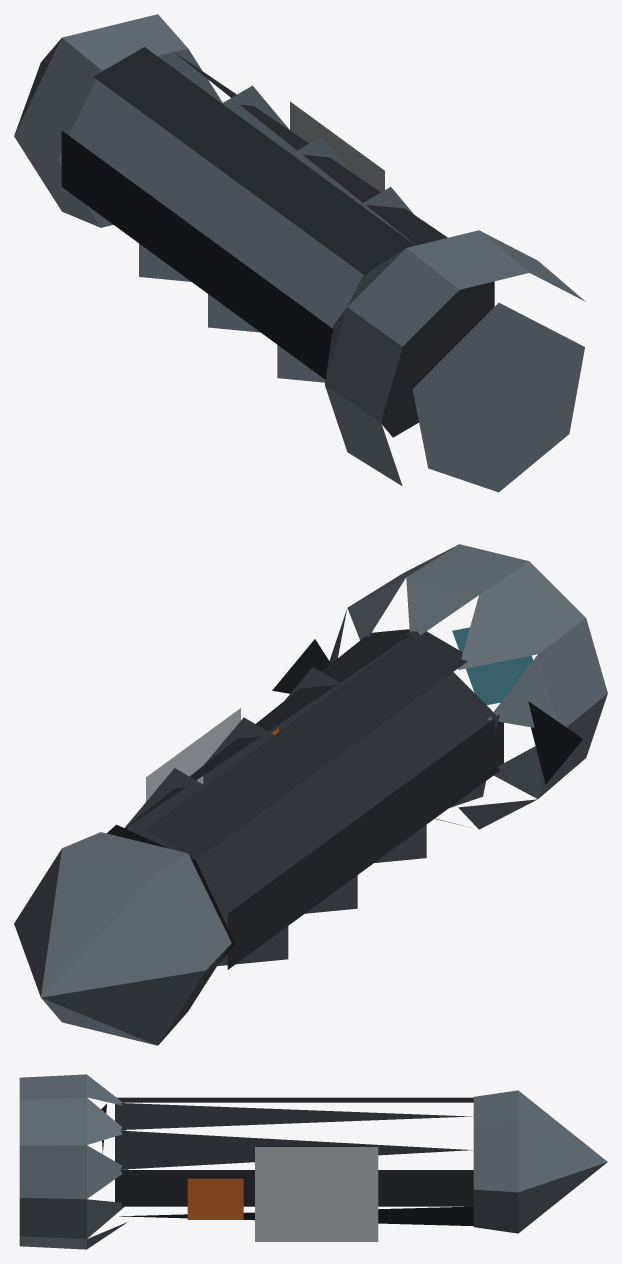
Rendered from saber-sith.lod.glb.
3 renders of one model, top to bottom at view 1: azimuth 30°, elevation 25°; view 2: azimuth 150°, elevation 25°; view 3: azimuth 270°, elevation 25°, orthographic. The views are drawn at different scales.
Parts seen in each view (by area): view 1: m; view 2: m; view 3: m.
Part boxes in pixels (bbox=[...]): m: bbox=[14, 14, 585, 492]; m: bbox=[14, 544, 607, 1045]; m: bbox=[19, 1074, 607, 1249].
Size of the model in its own units: 0.0339 by 0.0244 by 0.0864.
